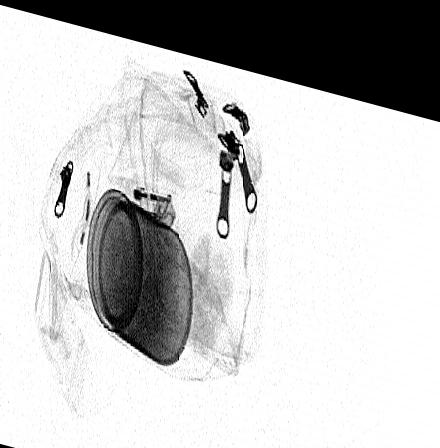Lighter: (114, 168, 176, 223)
